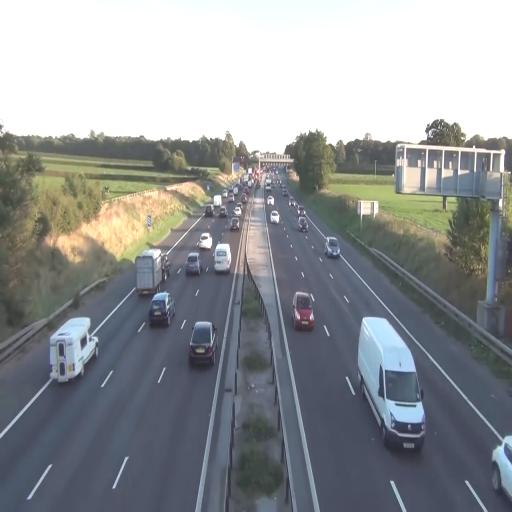vehicle: (356, 314, 426, 452), (357, 314, 426, 452), (49, 316, 99, 385), (135, 248, 170, 300), (491, 432, 512, 500), (188, 320, 216, 368), (149, 291, 174, 328), (293, 290, 315, 332), (214, 242, 232, 274), (185, 251, 202, 278), (323, 236, 340, 259), (266, 197, 280, 224), (270, 208, 280, 224)
